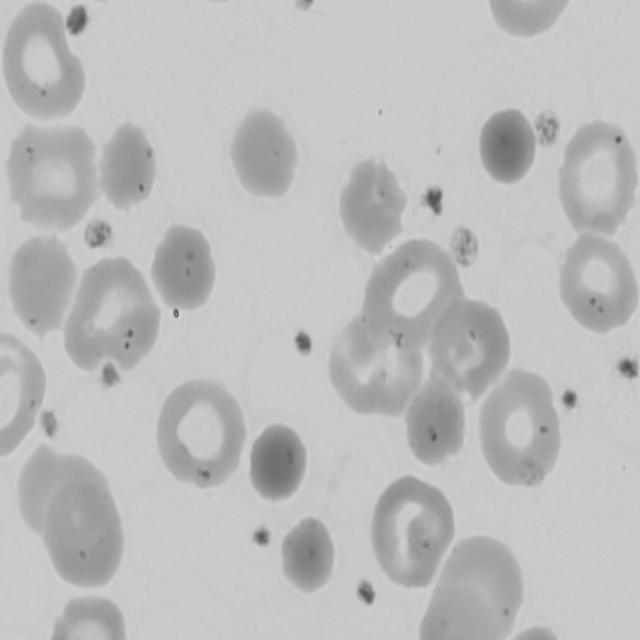Platelets: (294, 322, 318, 360)
RBC: (23, 444, 130, 592), (60, 254, 162, 381), (472, 367, 567, 492), (3, 118, 102, 236), (367, 471, 456, 598), (151, 377, 249, 490), (0, 6, 89, 128), (425, 534, 527, 640), (554, 119, 640, 242), (560, 228, 638, 338), (5, 232, 82, 339), (227, 110, 301, 204), (150, 219, 220, 315), (0, 336, 50, 462), (477, 0, 585, 40), (50, 590, 131, 640)
Spherocyte: (249, 424, 306, 504), (478, 109, 536, 185), (280, 518, 336, 596)
